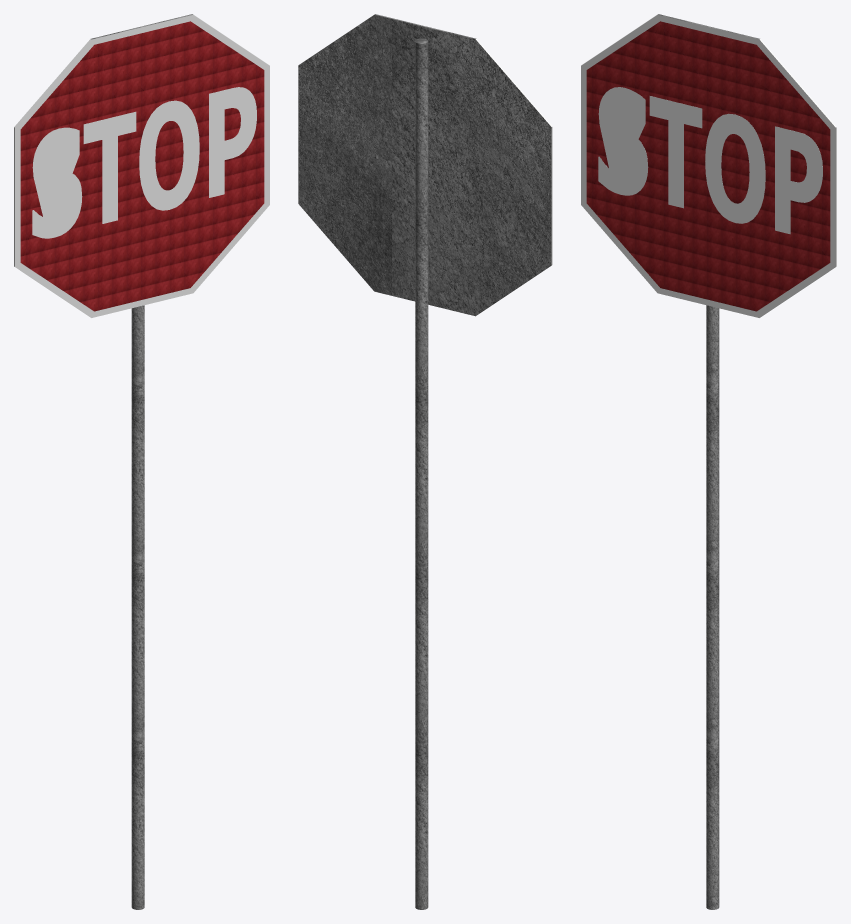
The model's file is stopsign.obj.
The picture shows the model from 3 angles, left to right: view 1: azimuth 30°, elevation 25°; view 2: azimuth 150°, elevation 25°; view 3: azimuth 330°, elevation 25°; orthographic projection.
Parts seen in each view (by area): view 1: Mesh5 Model, Mesh6 Model, Mesh1 STOP1 Model, Mesh4 STOP1 Model, Mesh3 STOP1 Model, Mesh2 STOP1 Model; view 2: Mesh5 Model, Mesh6 Model; view 3: Mesh5 Model, Mesh6 Model, Mesh1 STOP1 Model, Mesh4 STOP1 Model, Mesh3 STOP1 Model, Mesh2 STOP1 Model.
Part boxes in pixels (x1,y1,x2,y2): Mesh5 Model: [14, 14, 269, 317]; Mesh6 Model: [131, 305, 144, 909]; Mesh1 STOP1 Model: [32, 127, 82, 238]; Mesh4 STOP1 Model: [139, 100, 199, 210]; Mesh3 STOP1 Model: [209, 87, 256, 197]; Mesh2 STOP1 Model: [83, 111, 136, 223]; Mesh5 Model: [298, 14, 552, 316]; Mesh6 Model: [415, 38, 428, 909]; Mesh5 Model: [581, 14, 836, 317]; Mesh6 Model: [706, 305, 719, 909]; Mesh1 STOP1 Model: [598, 87, 648, 195]; Mesh4 STOP1 Model: [705, 113, 765, 223]; Mesh3 STOP1 Model: [775, 126, 822, 234]; Mesh2 STOP1 Model: [649, 96, 702, 208].
Bounding box in the file's own units: 0.45 × 1.49 × 0.023.
Materials: 7 (7 with a texture image).
